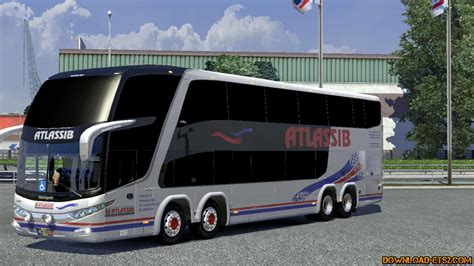bus: (23, 73, 381, 240)
